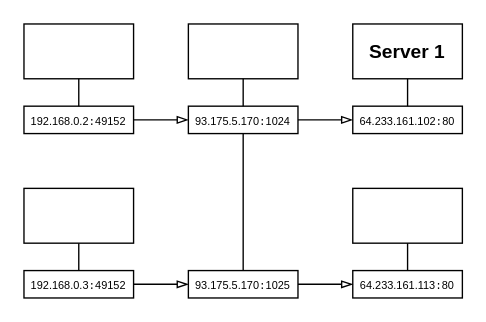
Some shapes in this 486 by 322 pixel diagram are drawn without their labels. Each missing label, with the centre of its shape:
"Device 1" belongs at (78,51).
"Device 2" belongs at (78,215).
"Router" belongs at (242,51).
"Server 2" belongs at (406,215).
